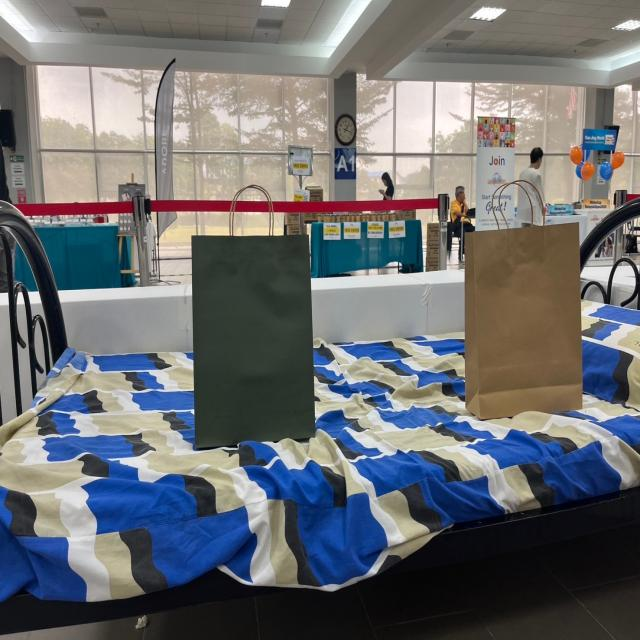bag: (467, 154, 580, 400), (207, 170, 304, 443)
